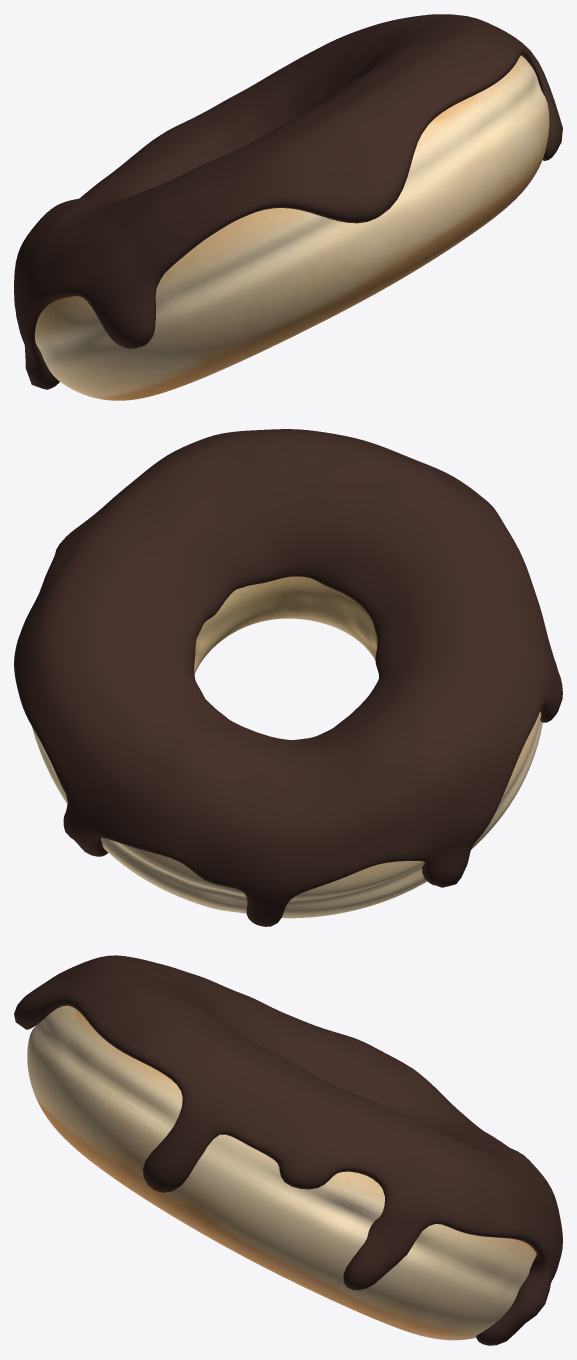
File: mydonut.glb
3 views of the same model, one above another, from view 1: azimuth 30°, elevation 25°; view 2: azimuth 150°, elevation 25°; view 3: azimuth 270°, elevation 25° (orthographic). The views are drawn at different scales.
Parts seen in each view (by area): view 1: icing, donut; view 2: icing, donut; view 3: icing, donut.
Boxes of the visible parts, x1=… form: icing: x1=14, y1=14, x2=562, y2=389; donut: x1=35, y1=55, x2=549, y2=400; icing: x1=14, y1=429, x2=562, y2=926; donut: x1=32, y1=576, x2=542, y2=918; icing: x1=14, y1=955, x2=562, y2=1345; donut: x1=27, y1=1005, x2=536, y2=1340.
Size of the model in its own units: 2.5 by 1.81 by 2.43.
Materials: 2 (1 with a texture image).
